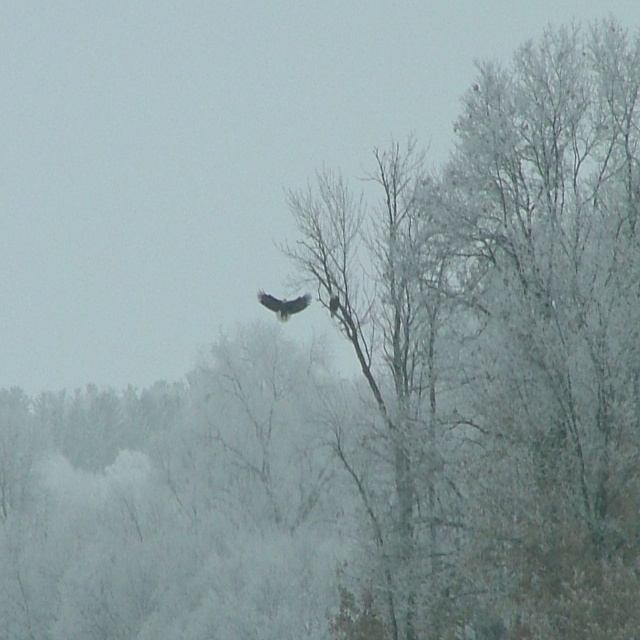Eagle: (256, 288, 312, 322)
